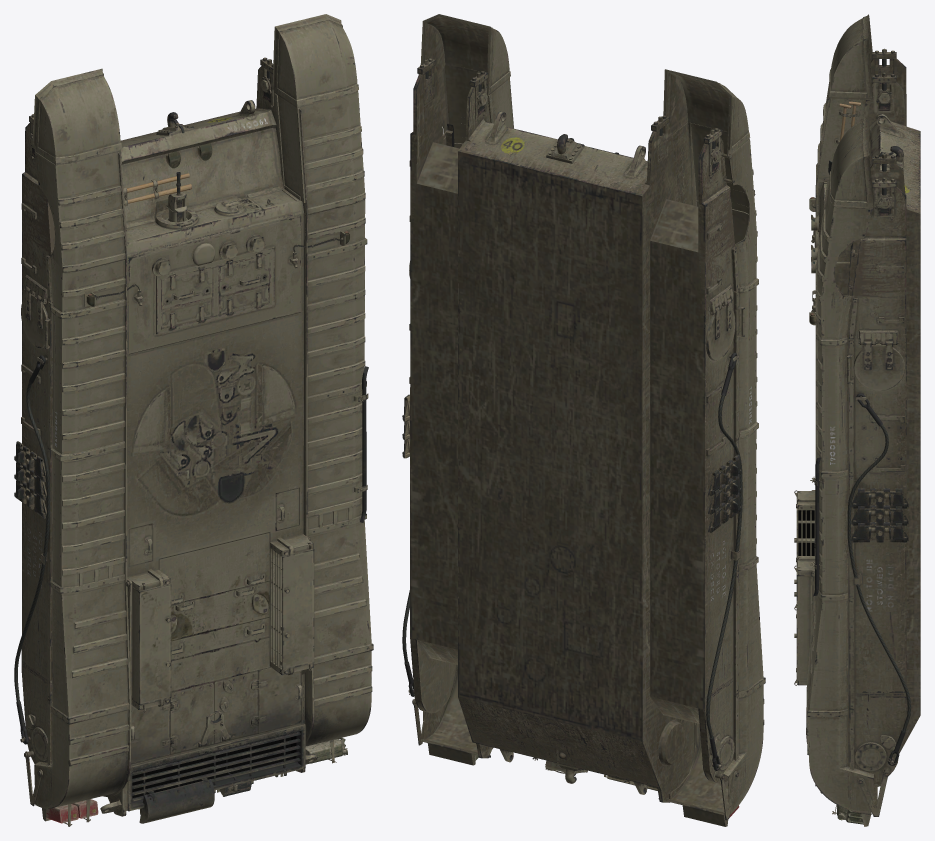
The model's file is Hull.glb.
3 renders of one model, left to right at view 1: azimuth 30°, elevation 25°; view 2: azimuth 150°, elevation 25°; view 3: azimuth 270°, elevation 25°, orthographic. The views are drawn at different scales.
Parts seen in each view (by area): view 1: set_0_group_0; view 2: set_0_group_0; view 3: set_0_group_0.
Part boxes in pixels (x1,y1,x2,y2): set_0_group_0: [14, 14, 373, 826]; set_0_group_0: [402, 14, 765, 826]; set_0_group_0: [794, 14, 920, 826].
Size of the model in its own units: 3.56 by 7.93 by 1.32.
1 material, 1 textured.
